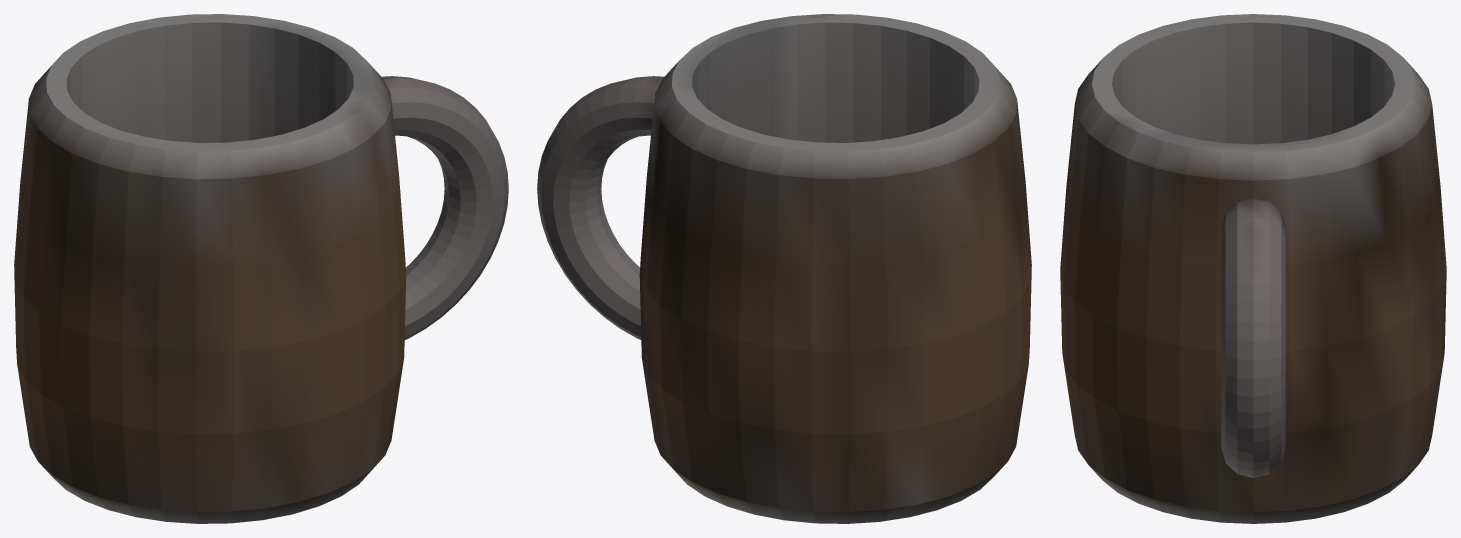
Rendered from mug.fbx.
The picture shows the model from 3 angles, left to right: view 1: azimuth 30°, elevation 25°; view 2: azimuth 150°, elevation 25°; view 3: azimuth 270°, elevation 25°; orthographic projection.
Parts seen in each view (by area): view 1: Cylinder; view 2: Cylinder; view 3: Cylinder.
Part boxes in pixels (x1=…): Cylinder: x1=14, y1=14, x2=508, y2=523; Cylinder: x1=537, y1=14, x2=1031, y2=523; Cylinder: x1=1060, y1=14, x2=1446, y2=523.
Size of the model in its own units: 227 by 174 by 164.
